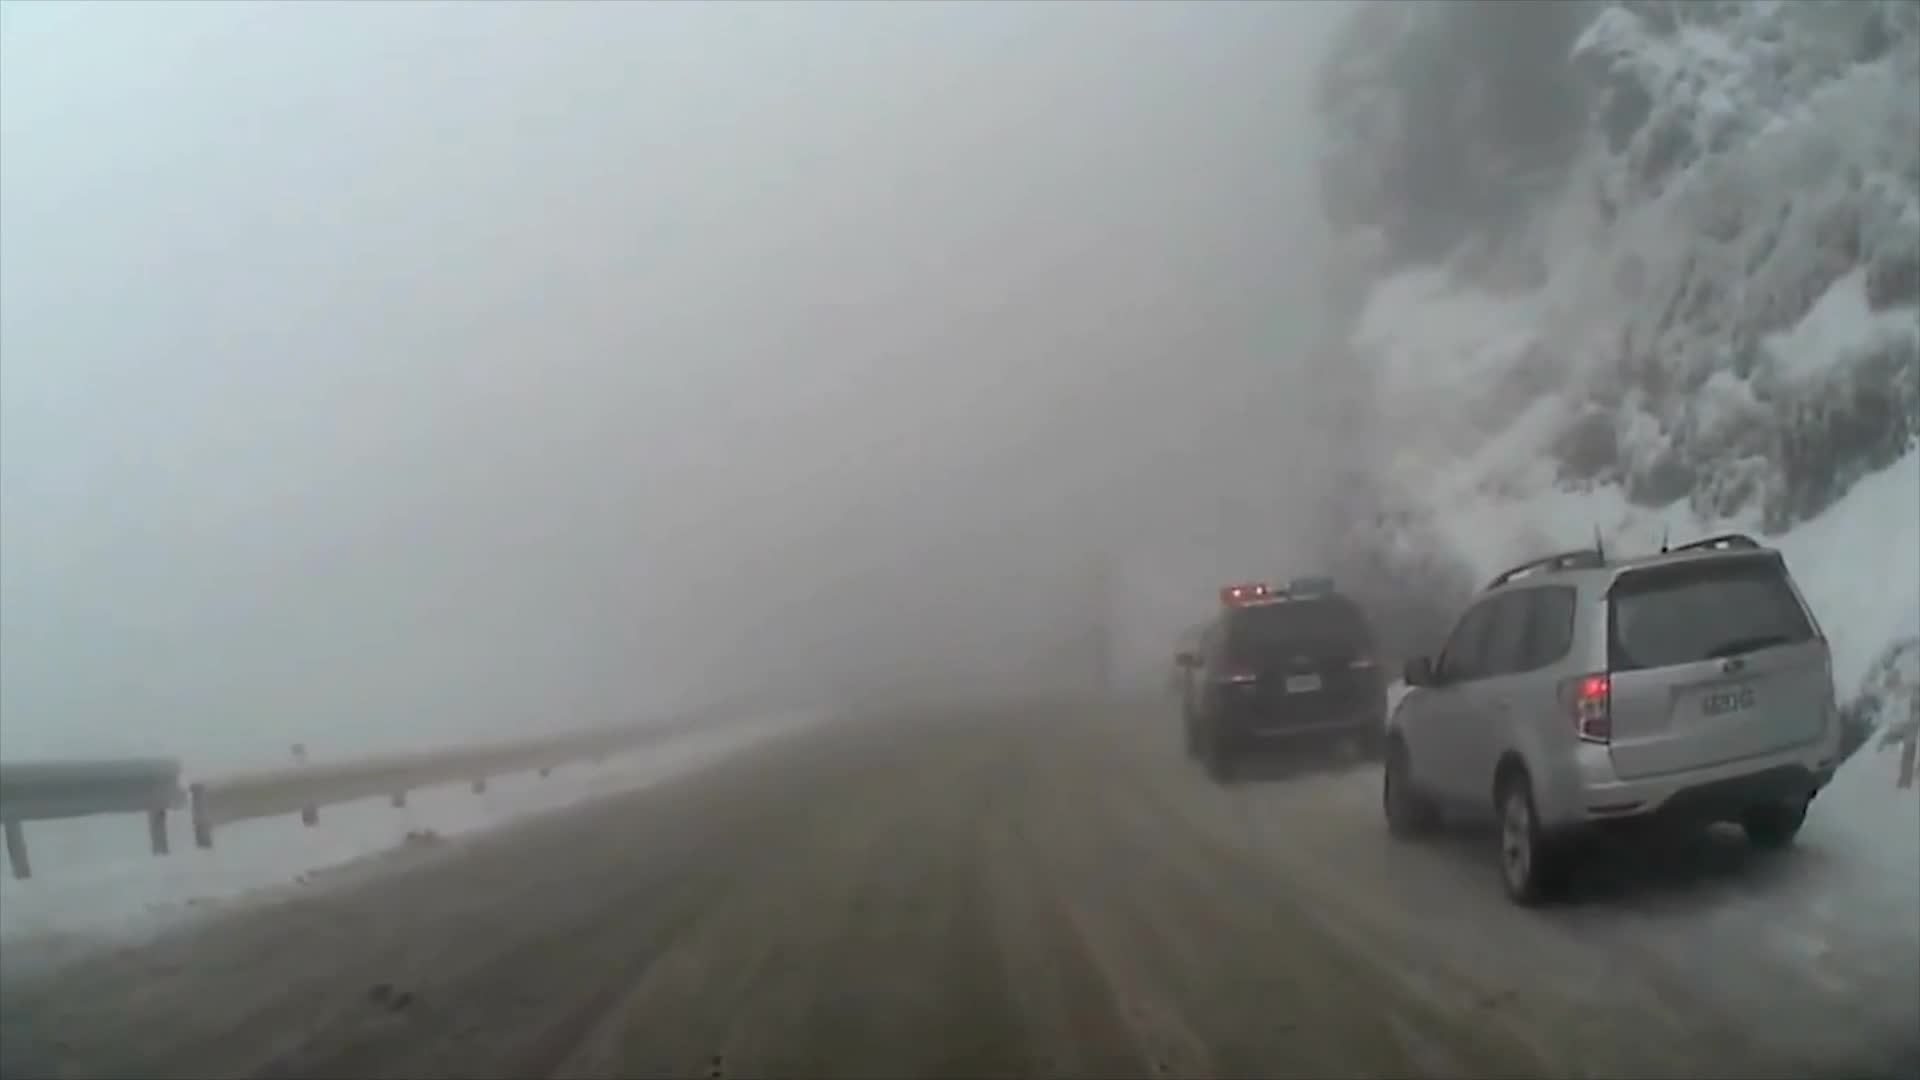vehicle: (1379, 529, 1844, 905), (1168, 574, 1385, 782)
